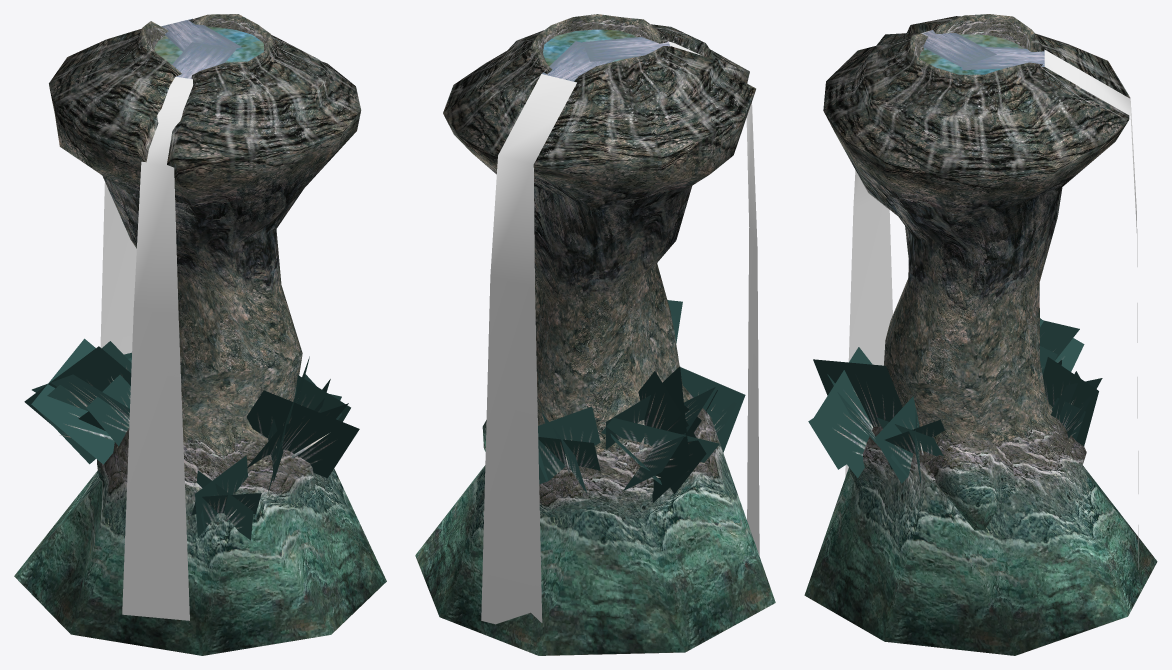
File: rock_crystl_geyser_sm_l0.fbx
The picture shows the model from 3 angles, left to right: view 1: azimuth 30°, elevation 25°; view 2: azimuth 150°, elevation 25°; view 3: azimuth 270°, elevation 25°; orthographic projection.
Parts seen in each view (by area): view 1: mesh_node; view 2: mesh_node; view 3: mesh_node.
Boxes of the visible parts, x1,y1,x2,y2 form: mesh_node: (14,14,386,655); mesh_node: (415,14,775,655); mesh_node: (804,14,1157,655).
Bounding box in the file's own units: 10.65 × 17.41 × 10.33.
